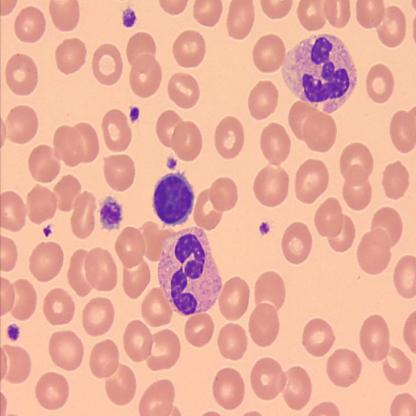Segmented neutrophil: (280, 31, 360, 116), (156, 224, 224, 318)
